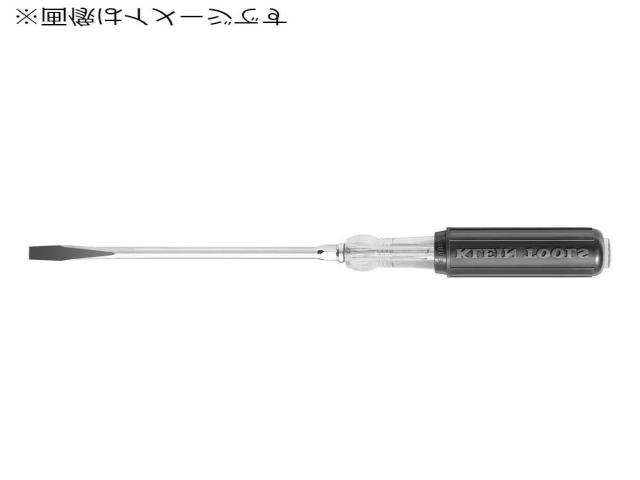Screwdriver: (29, 228, 611, 278)
